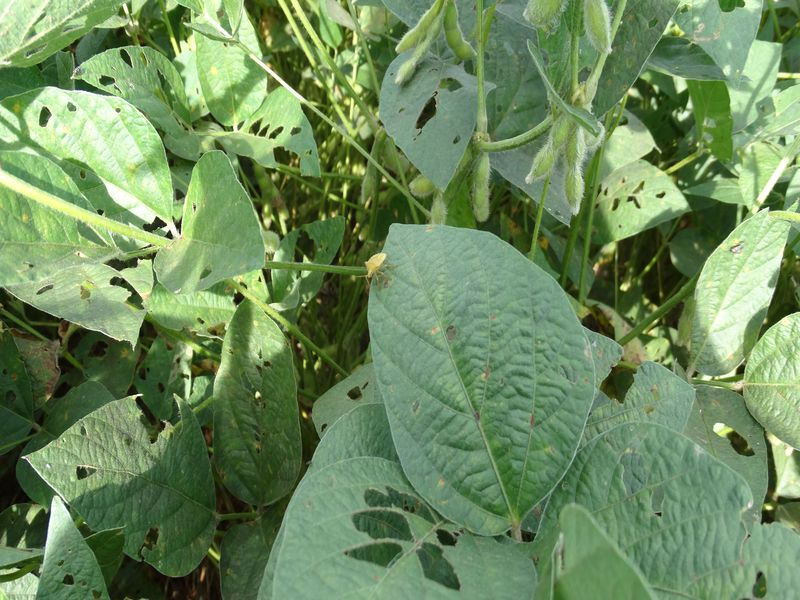Euschistus_heros_ninfa: (359, 250, 396, 289)
